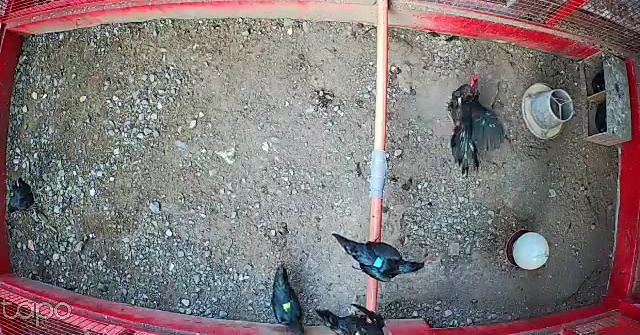Chicken: (331, 229, 425, 284), (268, 264, 319, 335), (312, 303, 393, 335)
Rooster: (444, 69, 506, 179)
Saddle_Color_Blue: (375, 256, 385, 270)
Saddle_Color_YellowGreen: (283, 301, 291, 314)
